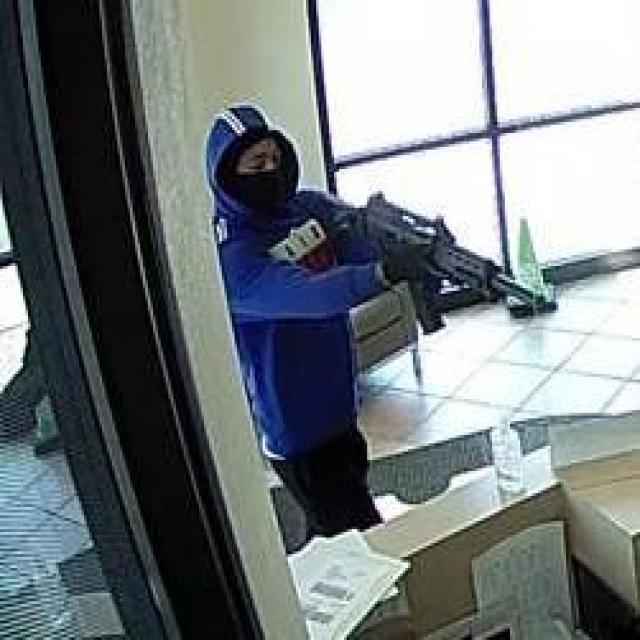gun: (360, 189, 545, 309)
